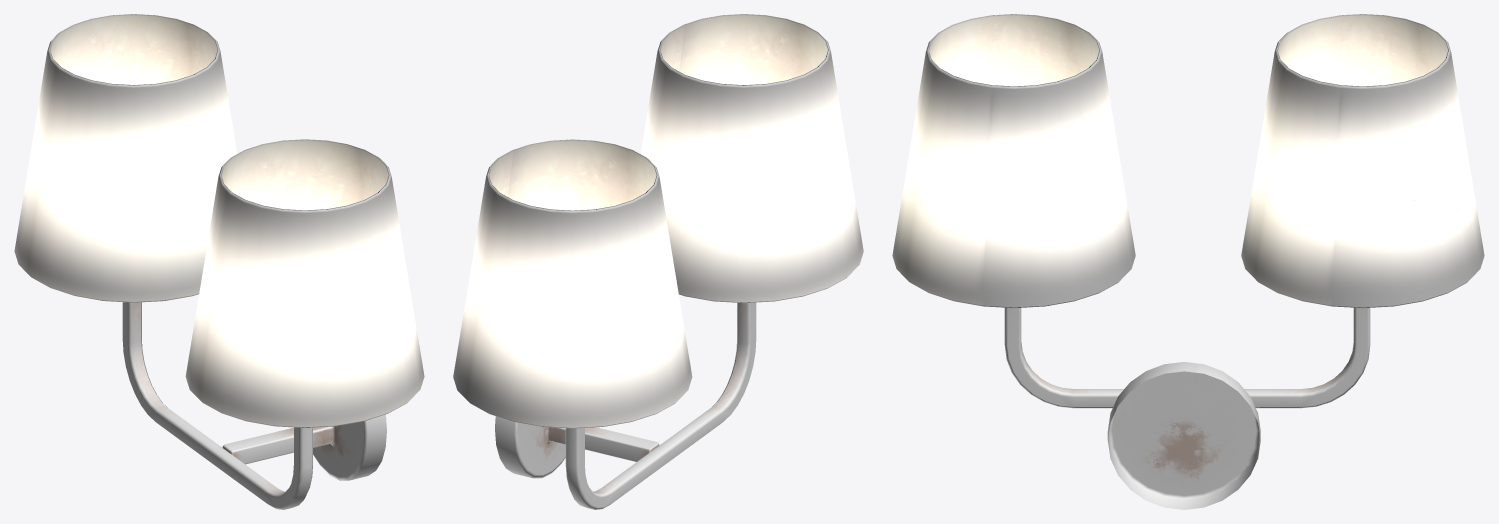
Rendered from SM_Lamp_E1.fbx.
3 renders of one model, left to right at view 1: azimuth 30°, elevation 25°; view 2: azimuth 150°, elevation 25°; view 3: azimuth 270°, elevation 25°, orthographic.
Visible parts, largest first — view 1: SM_Lamp_E1; view 2: SM_Lamp_E1; view 3: SM_Lamp_E1.
Boxes of the visible parts, box(x1,y1,x2,y2) form: SM_Lamp_E1: box(14, 14, 424, 509); SM_Lamp_E1: box(453, 14, 863, 509); SM_Lamp_E1: box(892, 14, 1484, 509).
Bounding box in the file's own units: 22.46 × 48.85 × 36.05.
3 materials, 2 textured.
